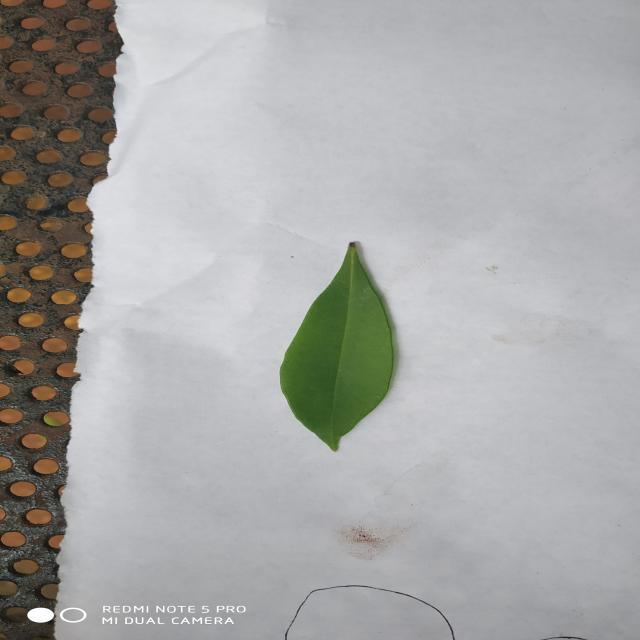nerale: (280, 242, 393, 451)
